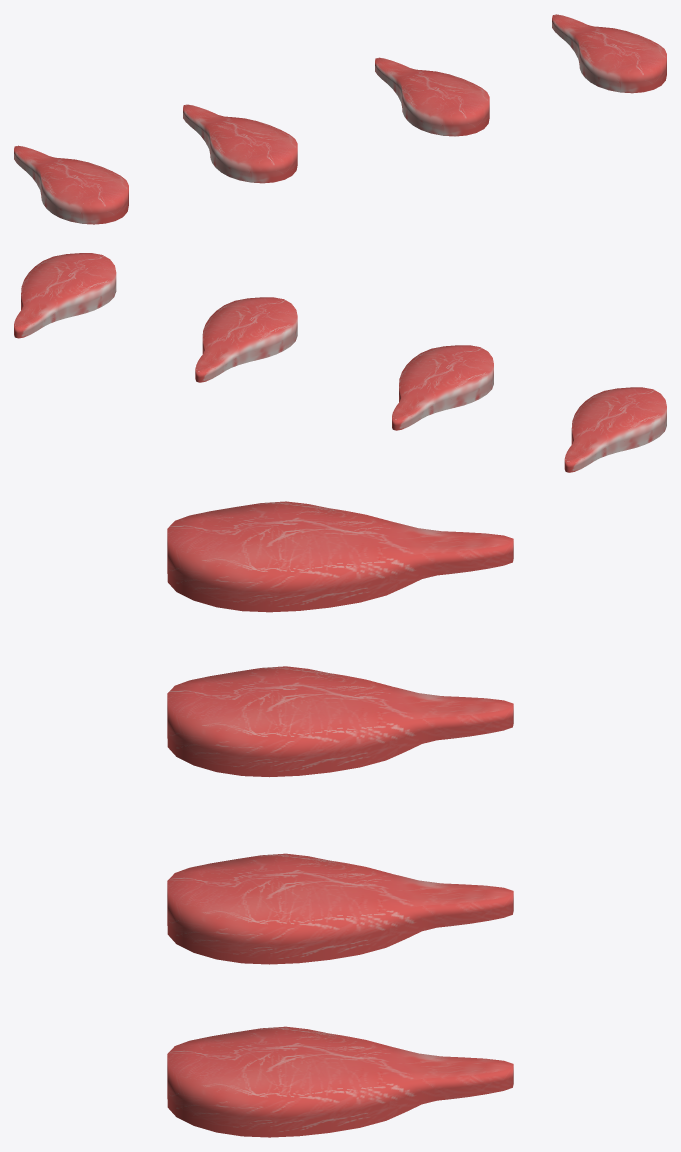
Rendered from steak.fbx.
The picture shows the model from 3 angles, top to bottom: view 1: azimuth 30°, elevation 25°; view 2: azimuth 150°, elevation 25°; view 3: azimuth 270°, elevation 25°; orthographic projection. The views are drawn at different scales.
Parts seen in each view (by area): view 1: Steak_0, Steak_1, Steak_2, Steak_3; view 2: Steak_1, Steak_3, Steak_0, Steak_2; view 3: Steak_1, Steak_0, Steak_2, Steak_3.
Boxes of the visible parts, x1=… form: Steak_0: x1=552, y1=14, x2=666, y2=93; Steak_1: x1=375, y1=57, x2=489, y2=136; Steak_2: x1=183, y1=104, x2=297, y2=183; Steak_3: x1=14, y1=145, x2=128, y2=224; Steak_1: x1=195, y1=297, x2=297, y2=382; Steak_3: x1=564, y1=387, x2=666, y2=472; Steak_0: x1=14, y1=253, x2=116, y2=338; Steak_2: x1=392, y1=345, x2=493, y2=430; Steak_1: x1=167, y1=853, x2=513, y2=964; Steak_0: x1=167, y1=1026, x2=513, y2=1137; Steak_2: x1=167, y1=666, x2=513, y2=777; Steak_3: x1=167, y1=501, x2=513, y2=612.
Size of the model in its own units: 378 by 15.04 by 93.16.
4 materials, 4 textured.
